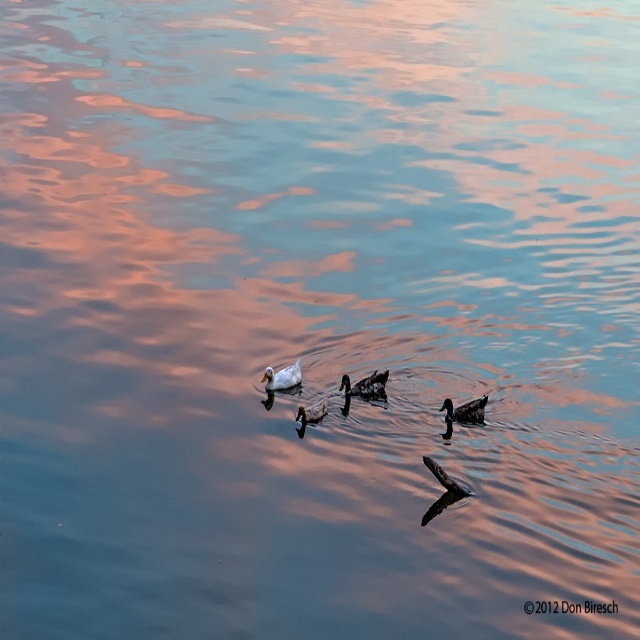Duck: (436, 389, 495, 440), (341, 364, 391, 394), (259, 367, 301, 398), (292, 398, 330, 432)
